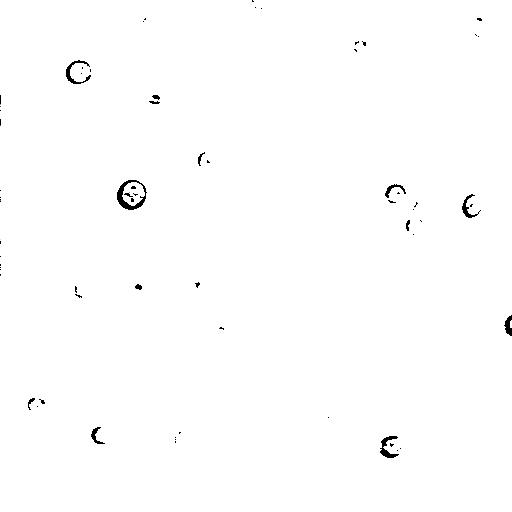micro-algae: (63, 301, 104, 343), (156, 31, 193, 71), (116, 179, 149, 211), (166, 314, 195, 344), (463, 11, 495, 38), (403, 194, 431, 223), (65, 59, 93, 87), (129, 277, 153, 307), (376, 435, 406, 459), (189, 273, 213, 301), (171, 426, 195, 453), (461, 193, 486, 218), (334, 388, 357, 415), (197, 149, 220, 173), (383, 183, 407, 205), (136, 12, 158, 33), (266, 1, 291, 19), (90, 425, 111, 446), (25, 395, 49, 413), (350, 36, 371, 55), (405, 218, 427, 236), (73, 279, 91, 299), (246, 1, 271, 9), (1, 98, 9, 123), (503, 315, 511, 338), (204, 1, 223, 5)
